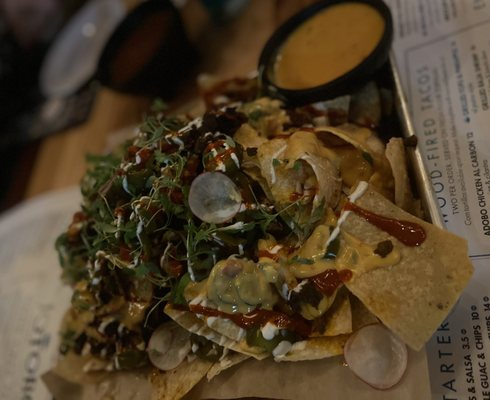curry: (1, 5, 487, 393)
sandwich: (53, 93, 477, 384)
